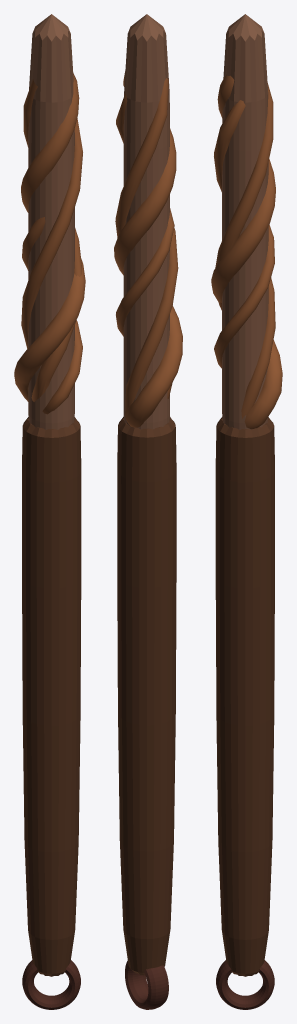
File: Wand 71.glb
3 renders of one model, left to right at view 1: azimuth 90°, elevation 25°; view 2: azimuth 210°, elevation 25°; view 3: azimuth 270°, elevation 25°, orthographic.
Visible parts, largest first — view 1: GeneratedWand; view 2: GeneratedWand; view 3: GeneratedWand.
Part boxes in pixels (x1,y1,x2,y2): GeneratedWand: [14, 14, 85, 1009]; GeneratedWand: [114, 14, 182, 1009]; GeneratedWand: [211, 14, 282, 1009].
Bounding box in the file's own units: 0.0315 × 0.5033 × 0.0328.
